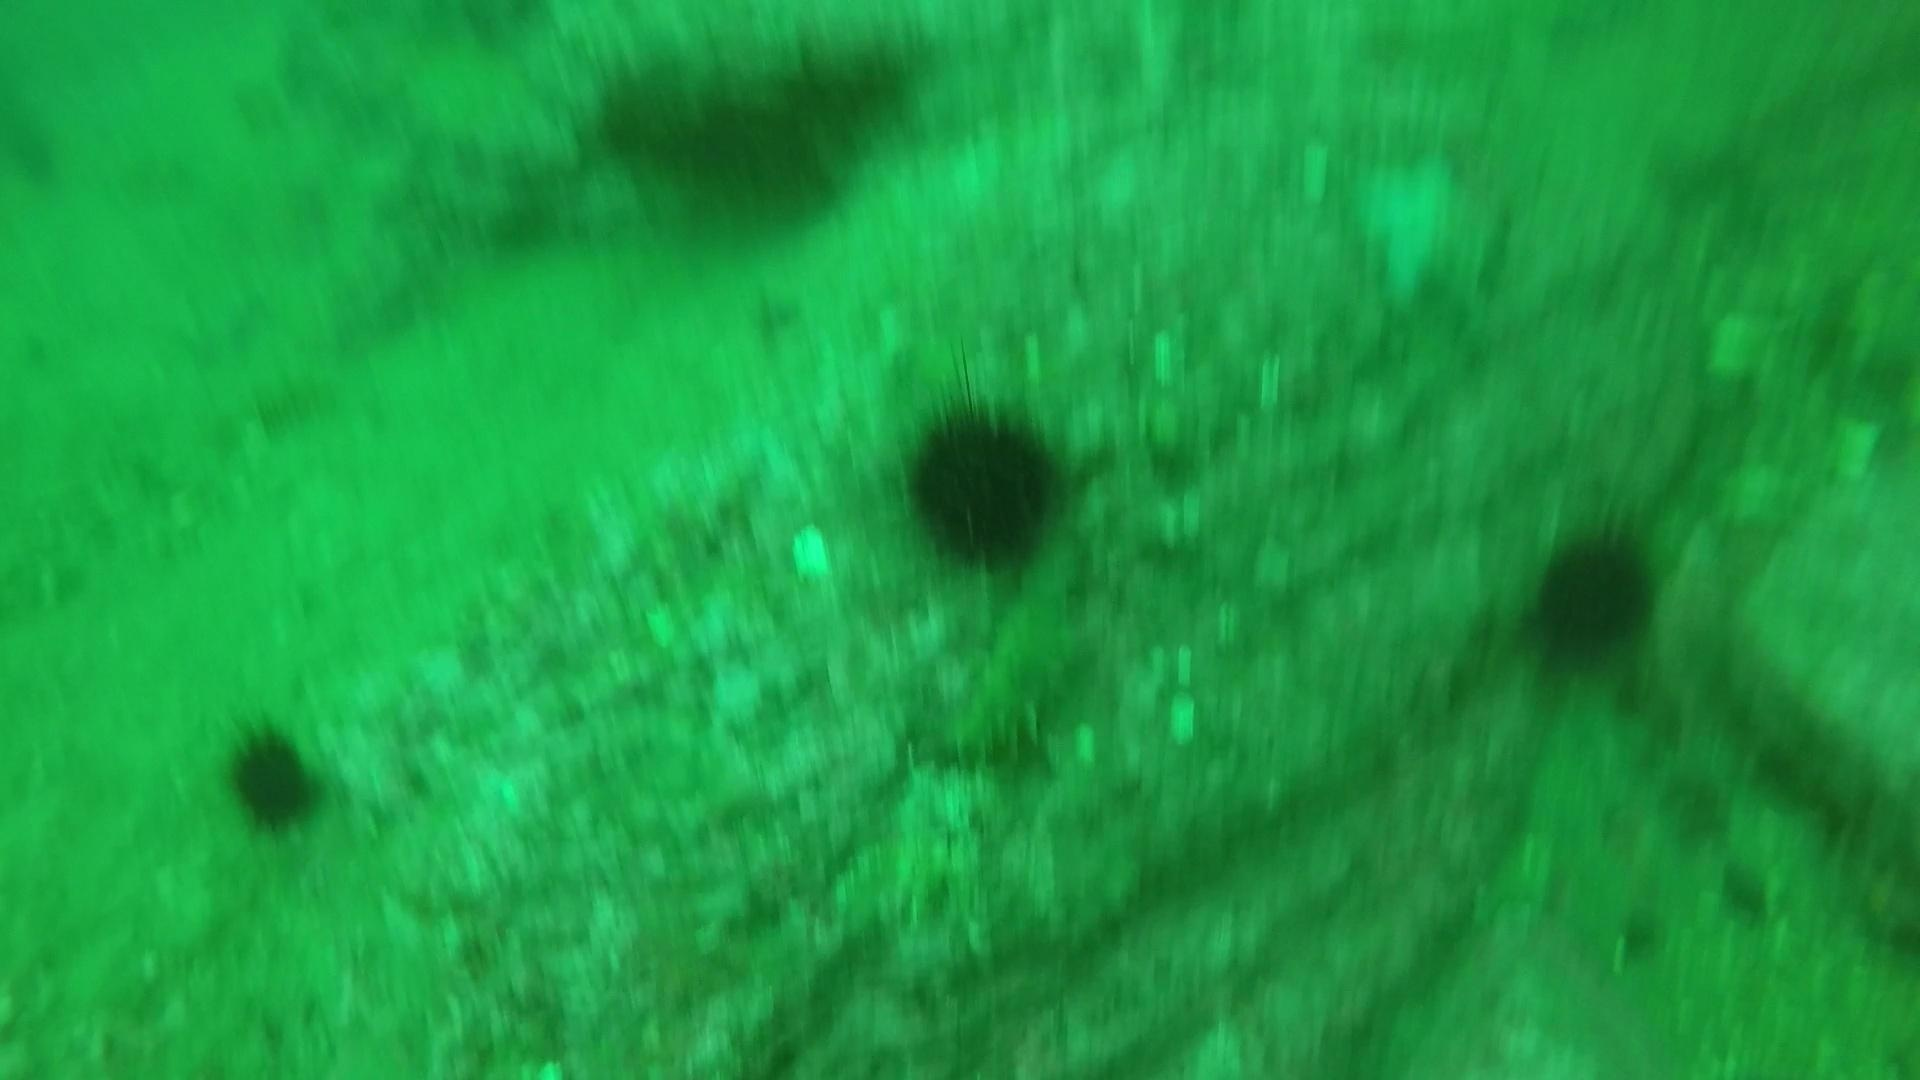echinus: (891, 386, 1073, 574), (1520, 516, 1667, 669), (216, 716, 331, 840)
holothurian: (930, 534, 1104, 769)
starfish: (1338, 138, 1502, 311)
